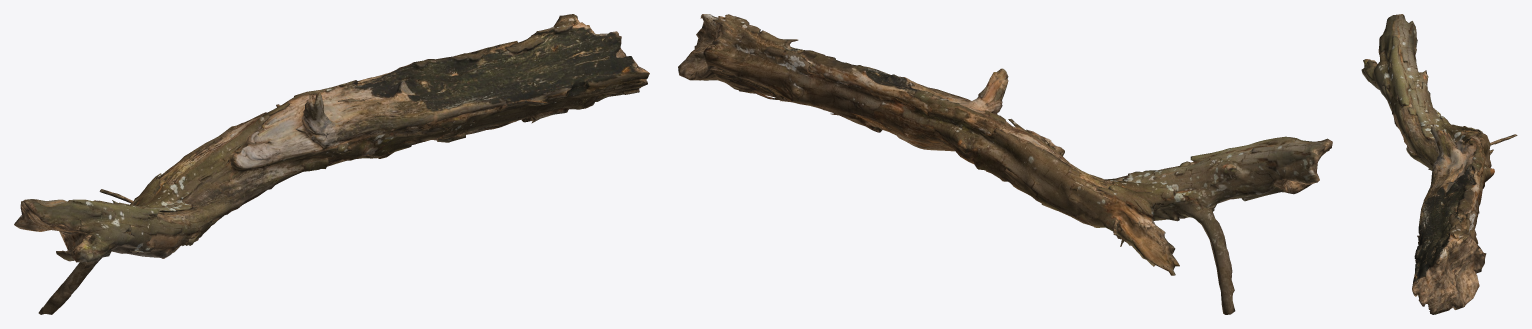
The picture shows the model from 3 angles, left to right: view 1: azimuth 30°, elevation 25°; view 2: azimuth 150°, elevation 25°; view 3: azimuth 270°, elevation 25°; orthographic projection. The views are drawn at different scales.
Visible parts, largest first — view 1: dead_tree_trunk_02_lod0; view 2: dead_tree_trunk_02_lod0; view 3: dead_tree_trunk_02_lod0.
Boxes of the visible parts, x1,y1,x2,y2 form: dead_tree_trunk_02_lod0: (14, 14, 649, 314); dead_tree_trunk_02_lod0: (678, 14, 1332, 314); dead_tree_trunk_02_lod0: (1361, 14, 1517, 314).
Bounding box in the file's own units: 4.05 × 1.05 × 1.05.
Materials: 1 (1 with a texture image).
